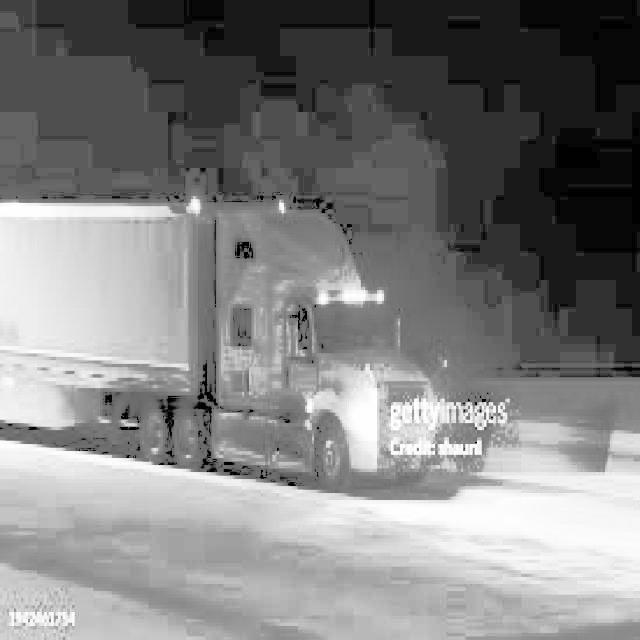Truck: (0, 196, 491, 490)
